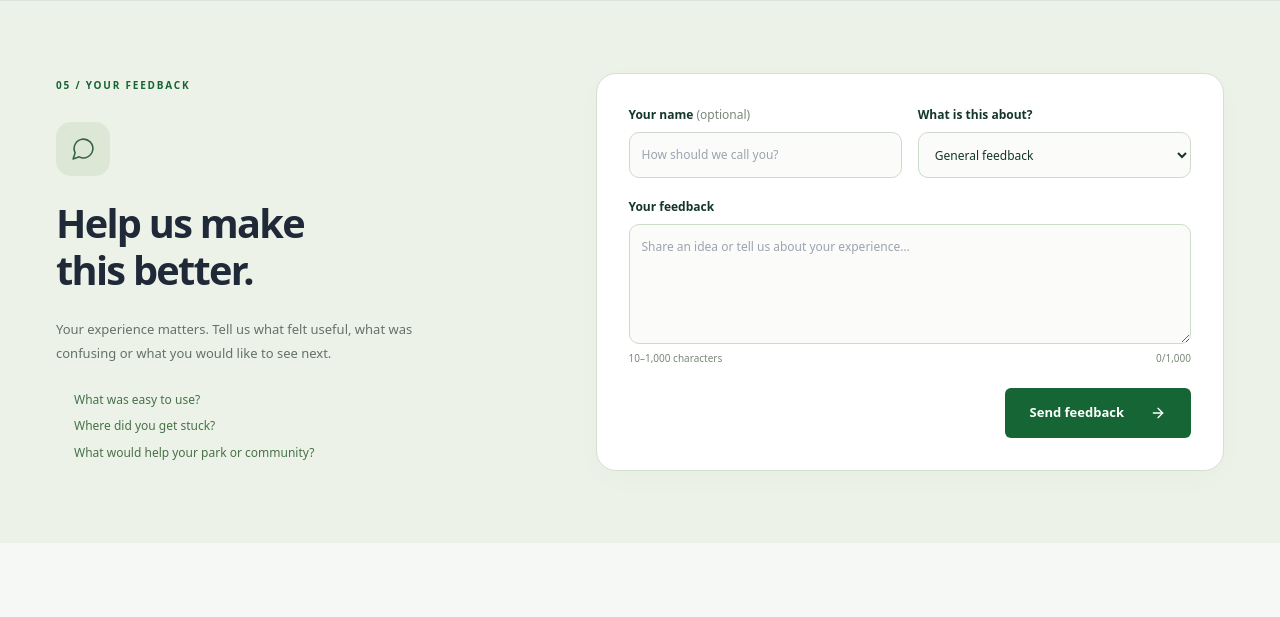
Scenario: frontend-only landing feedback › keeps the draft and shows an honest error when local saving fails
This screenshot has width=1280, height=617.
Type "Please add more stories about communities." into the text box labelled "Your feedback". click: (910, 284)
box: [628,224,1191,344]
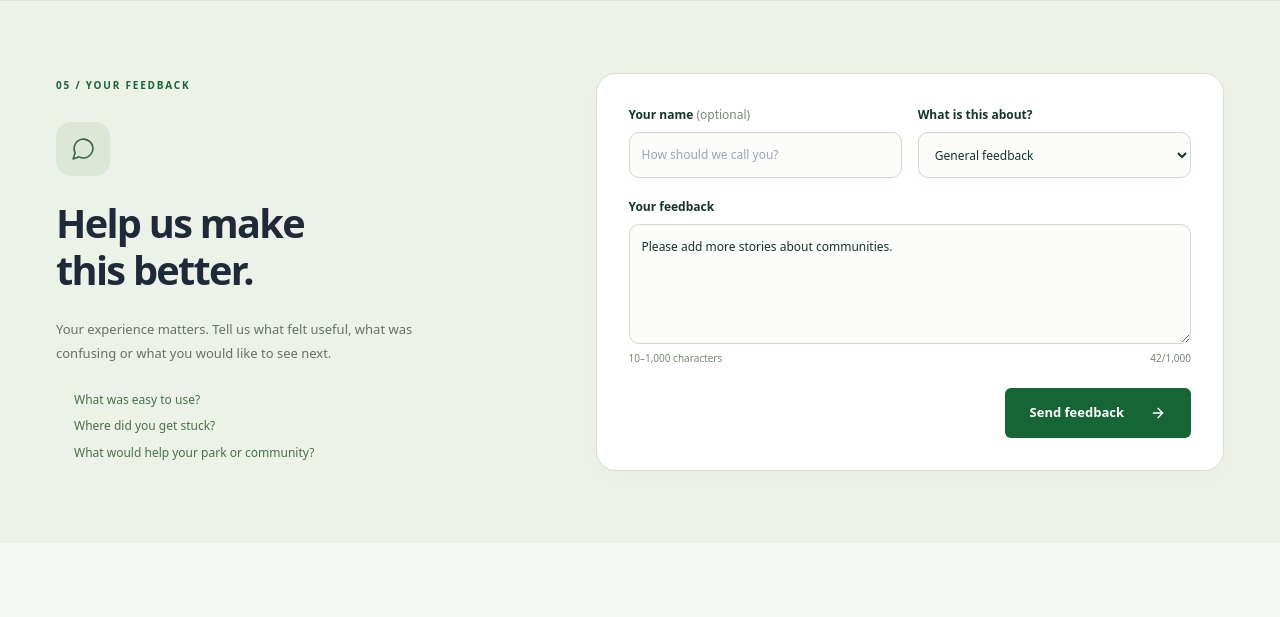
Submit the form named "Website feedback", box [628,106,1191,438]
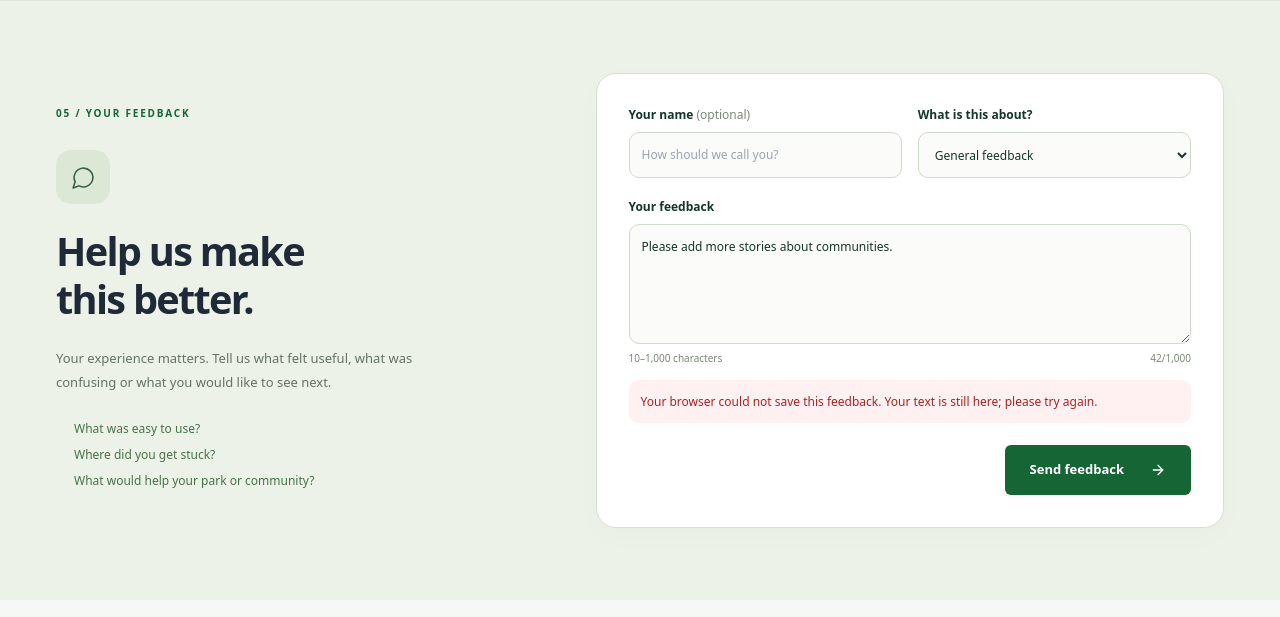
Expected: the message shows "could not save", [640,393,1097,410]
